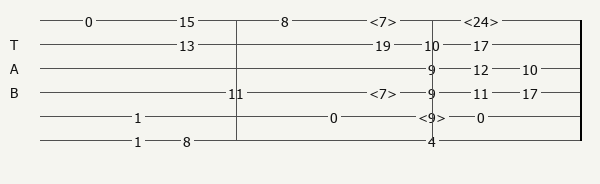0: (85, 13, 97, 27), (330, 109, 342, 123), (477, 109, 489, 123)
1: (134, 109, 146, 123), (134, 133, 146, 147)
10: (424, 37, 444, 51), (522, 61, 542, 75)
11: (228, 85, 248, 99), (473, 85, 493, 99)
12: (473, 61, 493, 75)
13: (179, 37, 199, 51)
15: (179, 13, 199, 27)
17: (473, 37, 493, 51), (522, 85, 542, 99)
19: (375, 37, 395, 51)
4: (428, 133, 440, 147)
8: (183, 133, 195, 147), (281, 13, 293, 27)
9: (428, 61, 440, 75), (428, 85, 440, 99)
harmonic: (463, 13, 503, 27), (369, 13, 401, 27), (369, 85, 401, 99), (418, 109, 450, 123)
